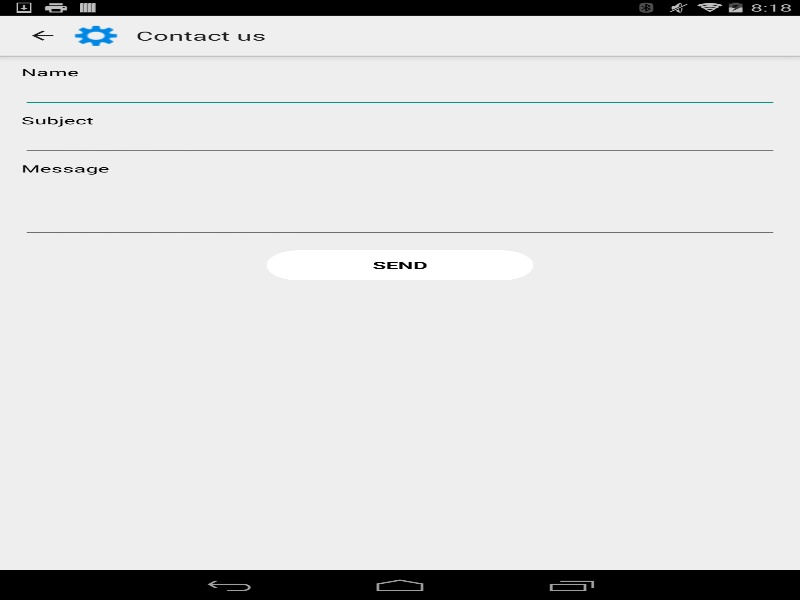Button: (266, 250, 533, 280), (0, 18, 74, 53)
Input: (21, 175, 778, 237), (21, 79, 778, 107), (21, 127, 778, 155)
